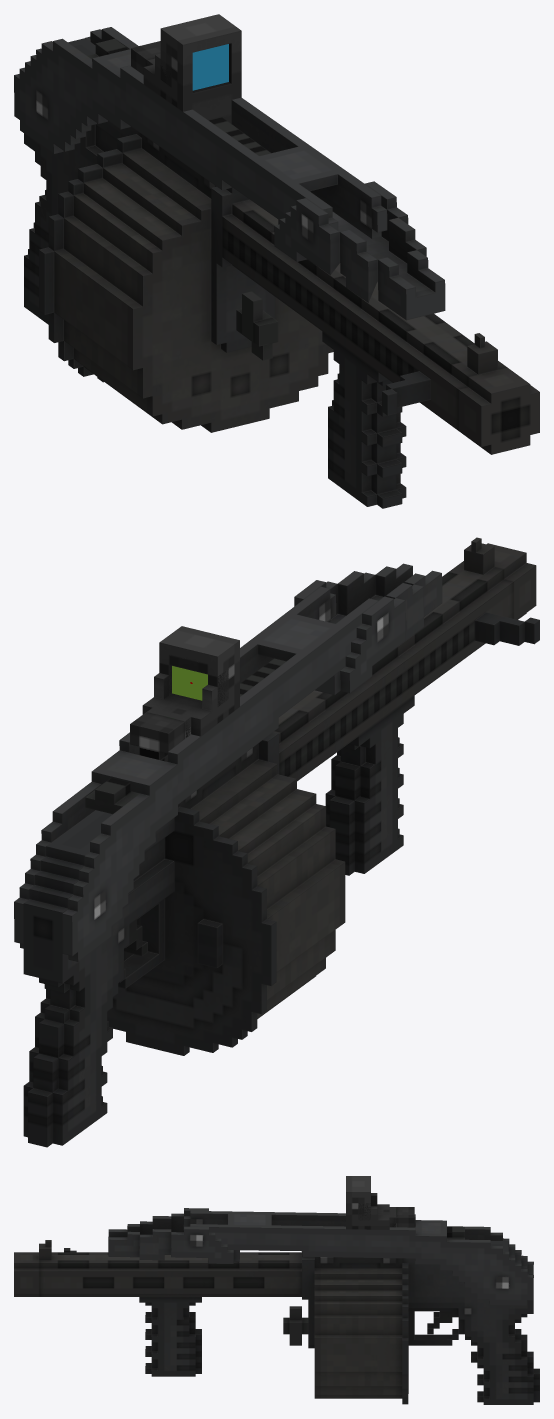
File: RD_STRIKER_ANARCHY.glb
The picture shows the model from 3 angles, top to bottom: view 1: azimuth 30°, elevation 25°; view 2: azimuth 150°, elevation 25°; view 3: azimuth 270°, elevation 25°; orthographic projection. The views are drawn at different scales.
Parts seen in each view (by area): view 1: STRIKER, STRIKER_STOCK_P1 (×2), SCOPE_HOLOSUN, STRIKER_CLIP, STRIKER_BOLT, STRIKER_PLANK (1), SCOPE_AIMPOINT; view 2: STRIKER, STRIKER_STOCK_P1 (×2), SCOPE_HOLOSUN, SCOPE_AIMPOINT, STRIKER_PLANK (1), STRIKER_BOLT; view 3: STRIKER, STRIKER_STOCK_P1 (×2), SCOPE_HOLOSUN, STRIKER_CLIP, SCOPE_AIMPOINT.
Part boxes in pixels (<box>): STRIKER: <box>24,38,539,508</box>; STRIKER_STOCK_P1 (×2): <box>14,27,445,320</box>; SCOPE_HOLOSUN: <box>143,14,241,123</box>; STRIKER_CLIP: <box>236,291,278,360</box>; STRIKER_BOLT: <box>382,371,430,415</box>; STRIKER_PLANK (1): <box>87,39,310,191</box>; SCOPE_AIMPOINT: <box>131,41,171,87</box>; STRIKER: <box>23,537,536,1147</box>; STRIKER_STOCK_P1 (×2): <box>14,563,442,961</box>; SCOPE_HOLOSUN: <box>142,626,239,737</box>; SCOPE_AIMPOINT: <box>130,655,228,760</box>; STRIKER_PLANK (1): <box>85,658,285,814</box>; STRIKER_BOLT: <box>474,612,539,645</box>; STRIKER: <box>14,1240,539,1404</box>; STRIKER_STOCK_P1 (×2): <box>108,1208,533,1305</box>; SCOPE_HOLOSUN: <box>346,1176,395,1229</box>; STRIKER_CLIP: <box>283,1306,308,1345</box>; SCOPE_AIMPOINT: <box>358,1203,414,1227</box>.
Size of the model in its own units: 0.2362 by 0.3739 by 0.8266.
Materials: 5 (5 with a texture image).
